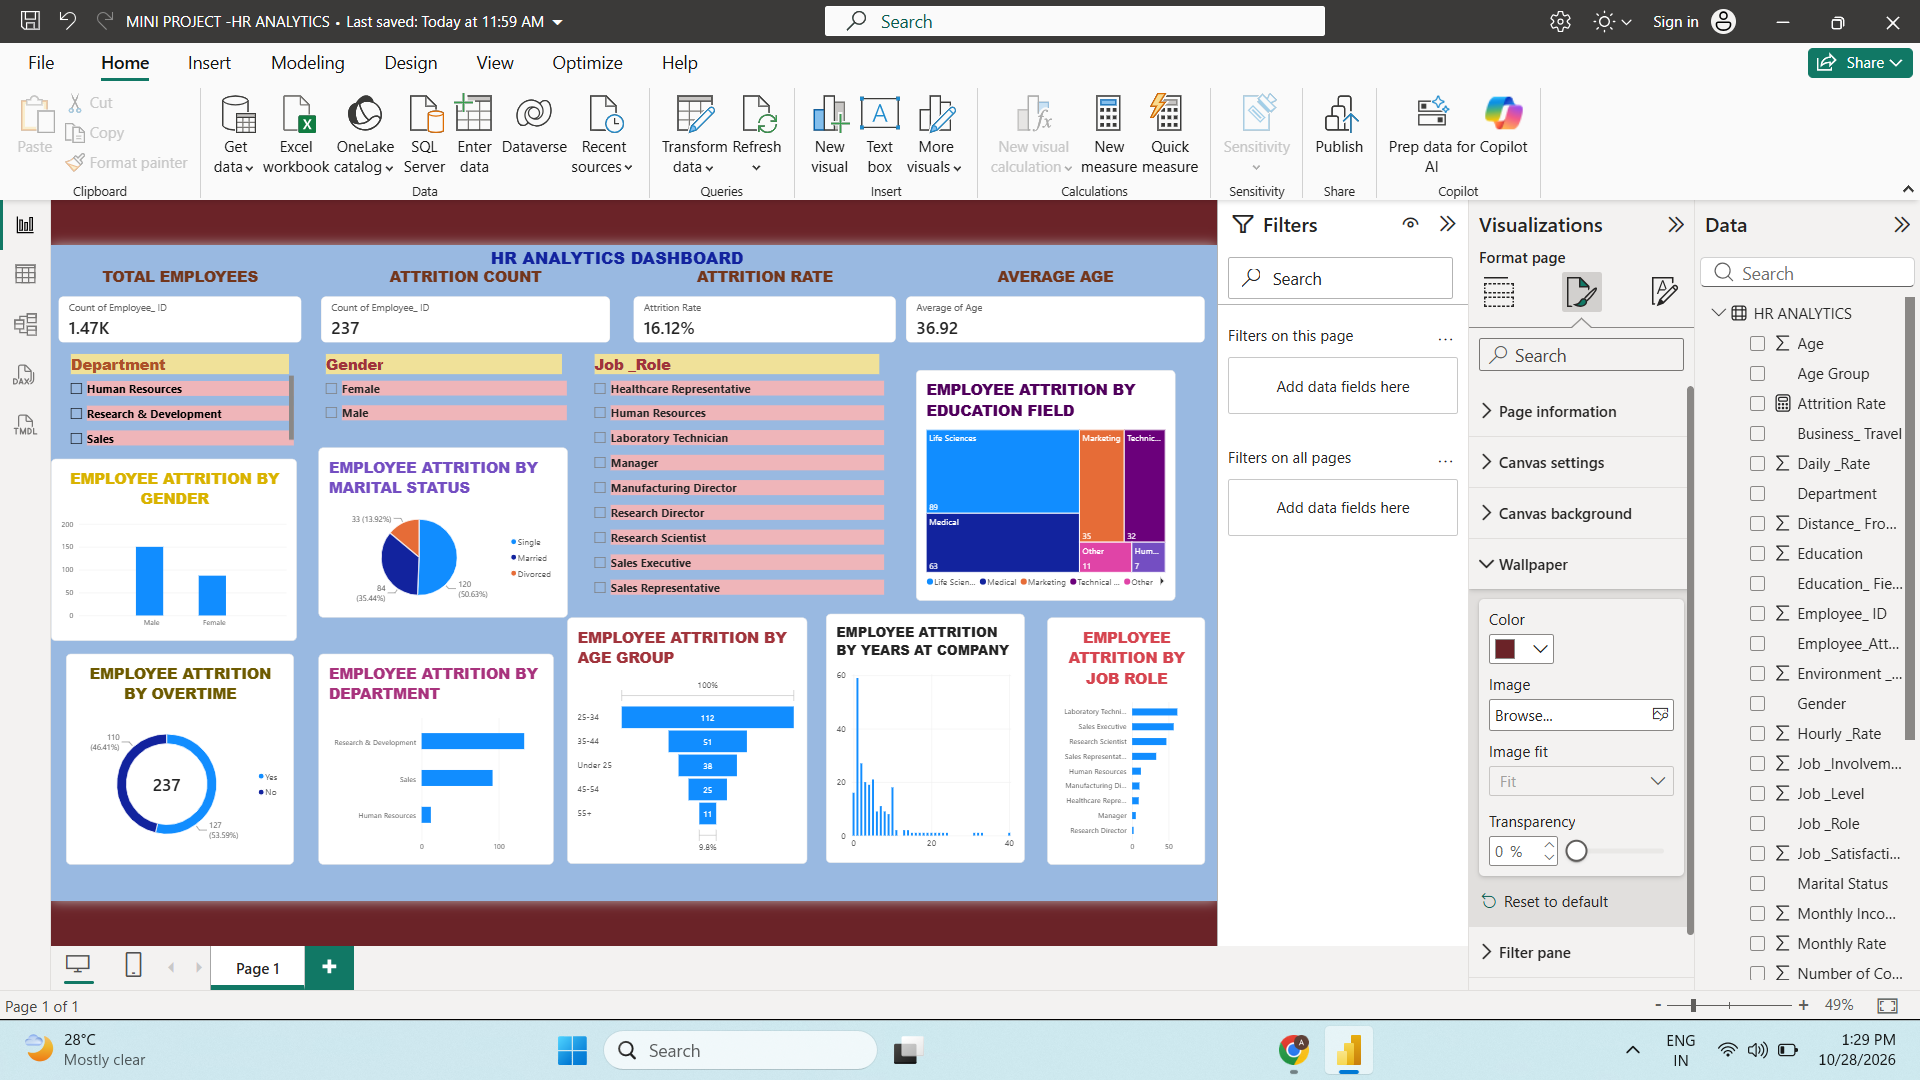

What the dashboard file says about the page in this screenshot:
{"tool":"powerbi","page":{"name":"Page 1","canvas":[1920,1080],"ordinal":0},"visuals":[{"type":"cardVisual","title":"TOTAL  EMPLOYEES","fields":{"Data":["CountNonNull(HR ANALYTICS.Employee_ ID)"]},"box":[12.5,35,400.6,125.9],"z":0},{"type":"cardVisual","title":"ATTRITION COUNT","fields":{"Data":["CountNonNull(HR ANALYTICS.Employee_ ID)"]},"box":[445,35,476.1,125.9],"z":1},{"type":"cardVisual","title":"ATTRITION RATE","fields":{"Data":["HR ANALYTICS.Attrition Rate"]},"box":[960,35,432.6,125.9],"z":2},{"type":"cardVisual","title":"AVERAGE AGE","fields":{"Data":["Avg(HR ANALYTICS.Age)"]},"box":[1407.5,35,492.1,125.9],"z":3},{"type":"clusteredColumnChart","title":"EMPLOYEE ATTRITION BY GENDER","fields":{"Category":["HR ANALYTICS.Gender"],"Y":["CountNonNull(HR ANALYTICS.Employee_ ID)"]},"box":[0,352.5,405.2,299.9],"z":4},{"type":"pieChart","title":"EMPLOYEE ATTRITION BY MARITAL STATUS","fields":{"Category":["HR ANALYTICS.Marital Status"],"Y":["CountNonNull(HR ANALYTICS.Employee_ ID)"]},"box":[440,332.5,410,280],"z":5},{"type":"clusteredBarChart","title":"EMPLOYEE ATTRITION BY JOB ROLE","fields":{"Category":["HR ANALYTICS.Job _Role"],"Y":["CountNonNull(HR ANALYTICS.Employee_ ID)"]},"box":[1640,612.5,260,407.5],"z":6},{"type":"donutChart","title":"EMPLOYEE ATTRITION BY OVERTIME","fields":{"Category":["HR ANALYTICS.Overtime"],"Y":["CountNonNull(HR ANALYTICS.Employee_ ID)"]},"box":[25,672.5,375,347.5],"z":7},{"type":"barChart","title":"EMPLOYEE ATTRITION BY DEPARTMENT","fields":{"Category":["HR ANALYTICS.Department"],"Y":["CountNonNull(HR ANALYTICS.Employee_ ID)"]},"box":[440,672.5,387.5,347.5],"z":8},{"type":"funnel","title":"EMPLOYEE ATTRITION BY AGE GROUP","fields":{"Category":["HR ANALYTICS.Age Group"],"Y":["CountNonNull(HR ANALYTICS.Employee_ ID)"]},"box":[850.1,613.4,395.2,405.5],"z":9},{"type":"treemap","title":"EMPLOYEE ATTRITION BY EDUCATION FIELD","fields":{"Group":["HR ANALYTICS.Education_ Field"],"Values":["CountNonNull(HR ANALYTICS.Employee_ ID)"]},"box":[1425,205,427.5,380],"z":10},{"type":"clusteredColumnChart","title":"EMPLOYEE ATTRITION BY YEARS AT COMPANY","fields":{"Category":["HR ANALYTICS.Years At Company"],"Y":["CountNonNull(HR ANALYTICS.Employee_ ID)"]},"box":[1276.2,607.2,327.5,410],"z":11},{"type":"slicer","fields":{"Values":["HR ANALYTICS.Department"]},"box":[25,180,375.4,153.4],"z":12},{"type":"slicer","fields":{"Values":["HR ANALYTICS.Gender"]},"box":[445,180,405.2,153.4],"z":13},{"type":"slicer","fields":{"Values":["HR ANALYTICS.Job _Role"]},"box":[887.5,180,485,430],"z":14},{"type":"textbox","box":[350,2.5,1165,65],"z":16}]}

Visuals, with their boxes on the page's 1920x1080 design canvas (x1, y1, x2, y2). These are canvas units, not pixel positions in the 1920x1080 screenshot, which may show the page scaled, cropped or inside an application window:
"TOTAL  EMPLOYEES" cardVisual: bbox=(12, 35, 413, 161)
"ATTRITION COUNT" cardVisual: bbox=(445, 35, 921, 161)
"ATTRITION RATE" cardVisual: bbox=(960, 35, 1393, 161)
"AVERAGE AGE" cardVisual: bbox=(1408, 35, 1900, 161)
"EMPLOYEE ATTRITION BY GENDER" clusteredColumnChart: bbox=(0, 352, 405, 652)
"EMPLOYEE ATTRITION BY MARITAL STATUS" pieChart: bbox=(440, 332, 850, 612)
"EMPLOYEE ATTRITION BY JOB ROLE" clusteredBarChart: bbox=(1640, 612, 1900, 1020)
"EMPLOYEE ATTRITION BY OVERTIME" donutChart: bbox=(25, 672, 400, 1020)
"EMPLOYEE ATTRITION BY DEPARTMENT" barChart: bbox=(440, 672, 828, 1020)
"EMPLOYEE ATTRITION BY AGE GROUP" funnel: bbox=(850, 613, 1245, 1019)
"EMPLOYEE ATTRITION BY EDUCATION FIELD" treemap: bbox=(1425, 205, 1852, 585)
"EMPLOYEE ATTRITION BY YEARS AT COMPANY" clusteredColumnChart: bbox=(1276, 607, 1604, 1017)
slicer - HR ANALYTICS.Department: bbox=(25, 180, 400, 333)
slicer - HR ANALYTICS.Gender: bbox=(445, 180, 850, 333)
slicer - HR ANALYTICS.Job _Role: bbox=(888, 180, 1372, 610)
textbox: bbox=(350, 2, 1515, 68)
